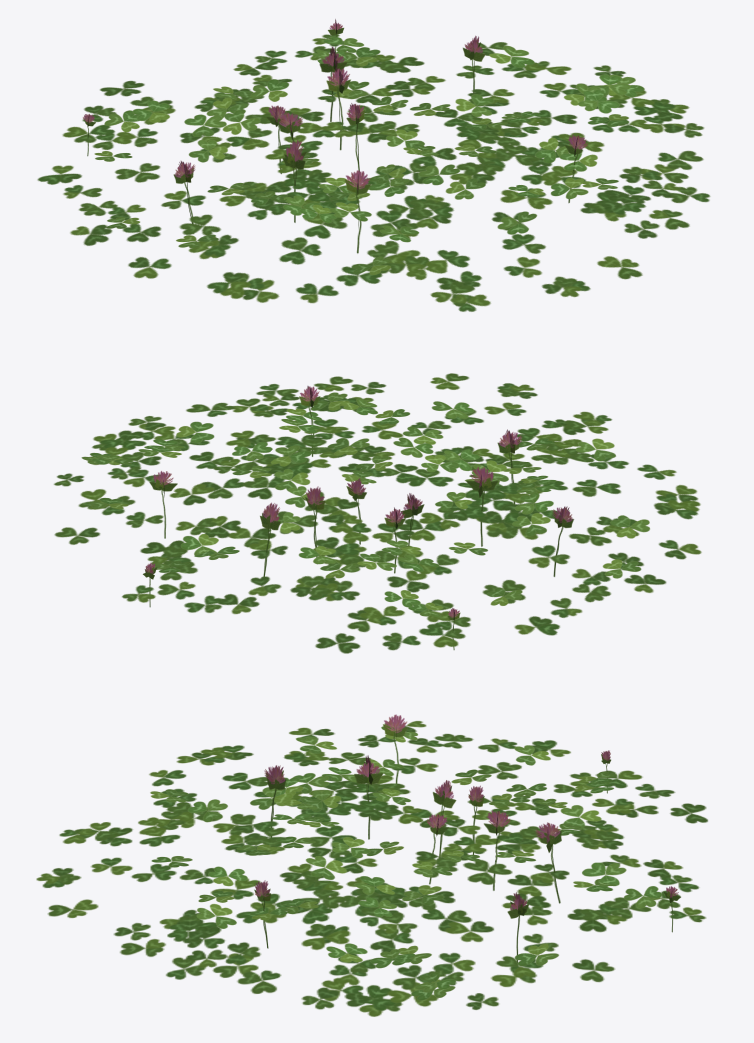
File: clover.glb
The picture shows the model from 3 angles, top to bottom: view 1: azimuth 30°, elevation 25°; view 2: azimuth 150°, elevation 25°; view 3: azimuth 270°, elevation 25°; orthographic projection. The views are drawn at different scales.
Visible parts, largest first — view 1: clover; view 2: clover; view 3: clover.
Boxes of the visible parts, x1=… form: clover: x1=37, y1=19, x2=710, y2=311; clover: x1=54, y1=373, x2=701, y2=653; clover: x1=36, y1=714, x2=707, y2=1016.
Bounding box in the file's own units: 1 × 0.1374 × 0.946.
Materials: 1 (1 with a texture image).
